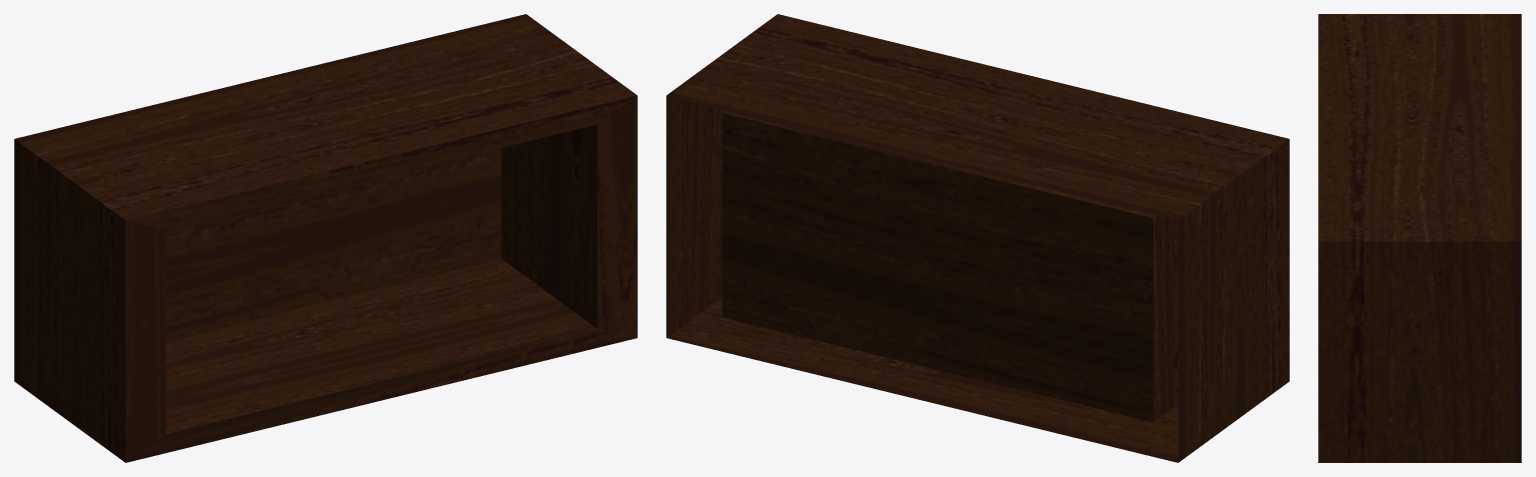
Rendered from Shelf.fbx.
3 views of the same model, side by side, from view 1: azimuth 30°, elevation 25°; view 2: azimuth 150°, elevation 25°; view 3: azimuth 270°, elevation 25° (orthographic). The views are drawn at different scales.
Visible parts, largest first — view 1: Book_shelve; view 2: Book_shelve; view 3: Book_shelve.
Boxes of the visible parts, x1,y1,x2,y2 form: Book_shelve: (14, 14, 637, 462); Book_shelve: (666, 14, 1289, 462); Book_shelve: (1318, 14, 1521, 462).
Size of the model in its own units: 94.81 by 42.93 by 35.73.
